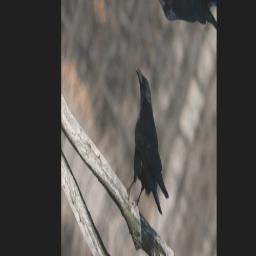Crow: (106, 60, 185, 248)
